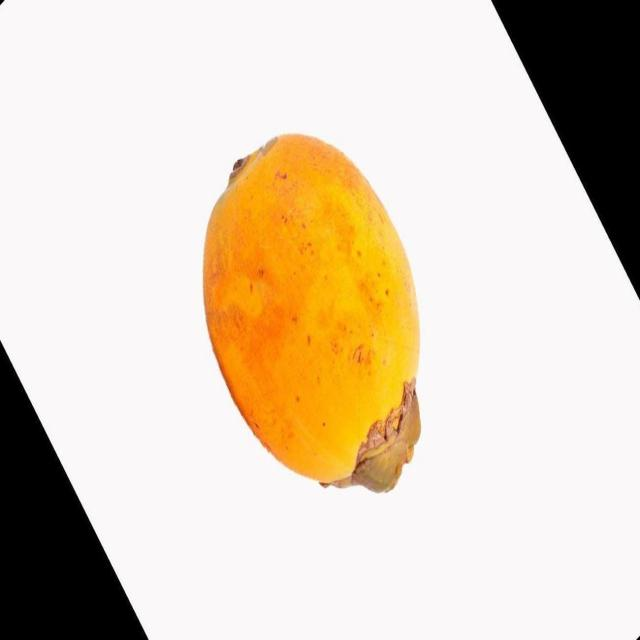good: (202, 134, 422, 495)
